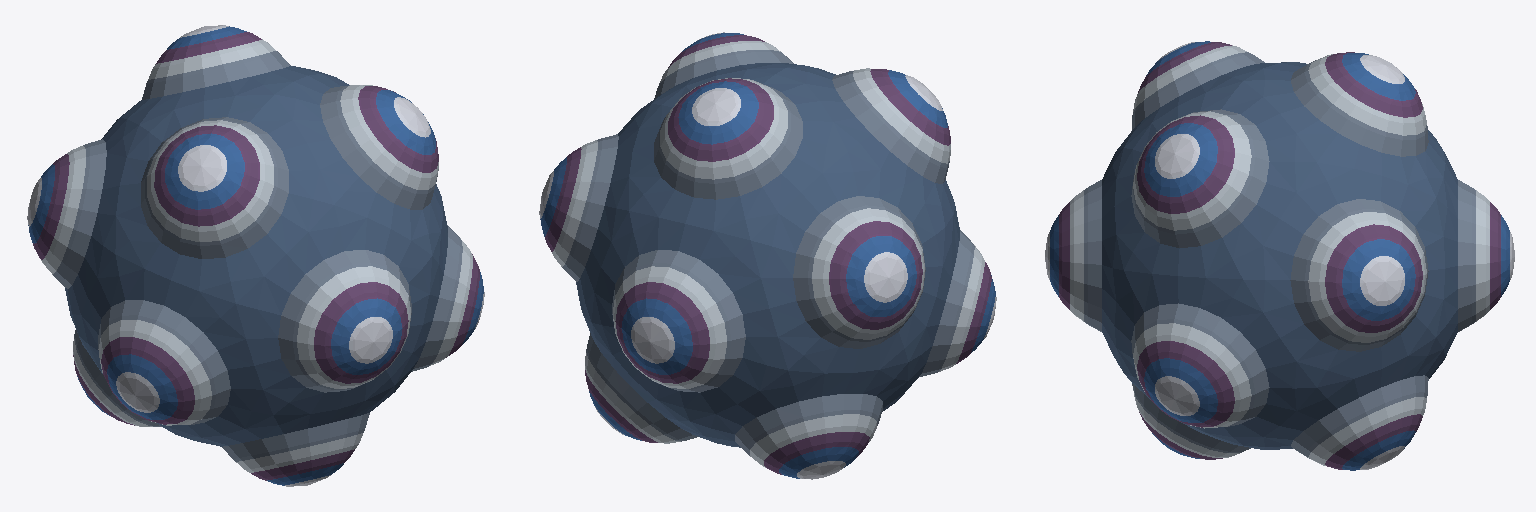
3 renders of one model, left to right at view 1: azimuth 30°, elevation 25°; view 2: azimuth 150°, elevation 25°; view 3: azimuth 270°, elevation 25°, orthographic.
Visible parts, largest first — view 1: core_06_0; view 2: core_06_0; view 3: core_06_0.
Boxes of the visible parts, <box> form: core_06_0: <box>27,25,484,486</box>; core_06_0: <box>539,32,996,479</box>; core_06_0: <box>1045,41,1514,470</box>.
Bounding box in the file's own units: 0.0478 × 0.0494 × 0.0537.
Materials: 1 (1 with a texture image).